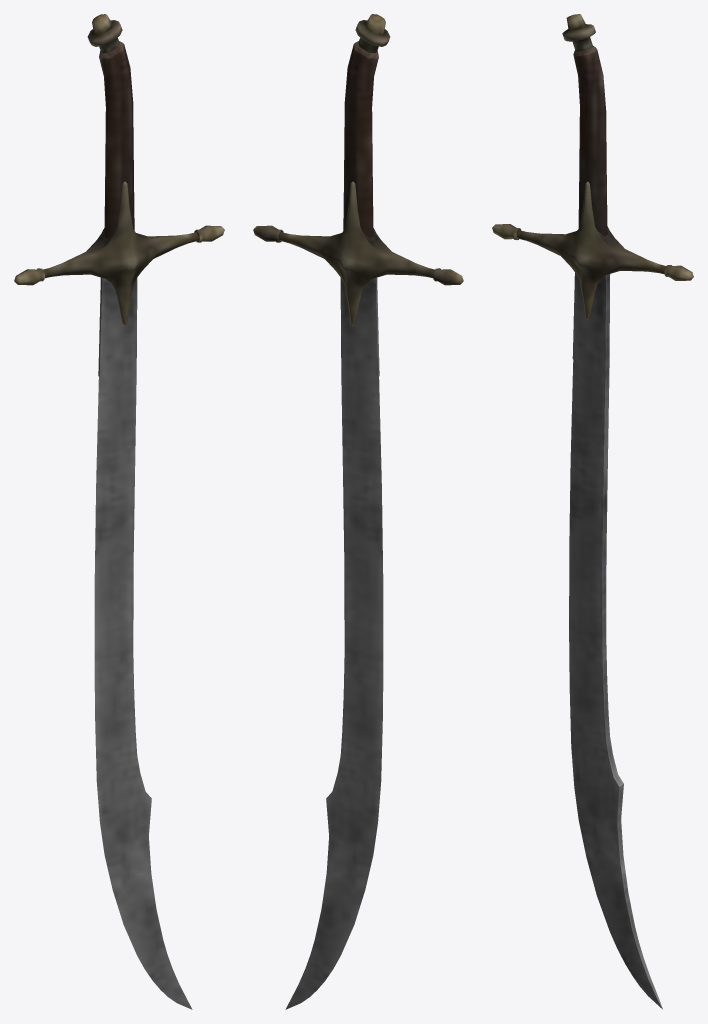
Rendered from weapon-wp_a_0400.glb.
The picture shows the model from 3 angles, left to right: view 1: azimuth 30°, elevation 25°; view 2: azimuth 150°, elevation 25°; view 3: azimuth 330°, elevation 25°; orthographic projection. The views are drawn at different scales.
Visible parts, largest first — view 1: wp_a_0400_mesh; view 2: wp_a_0400_mesh; view 3: wp_a_0400_mesh.
Boxes of the visible parts, x1,y1,x2,y2 form: wp_a_0400_mesh: (14, 14, 224, 1009); wp_a_0400_mesh: (253, 14, 463, 1009); wp_a_0400_mesh: (492, 14, 693, 1009).
Size of the model in its own units: 0.2245 by 1.03 by 0.0553.
Materials: 1 (1 with a texture image).
